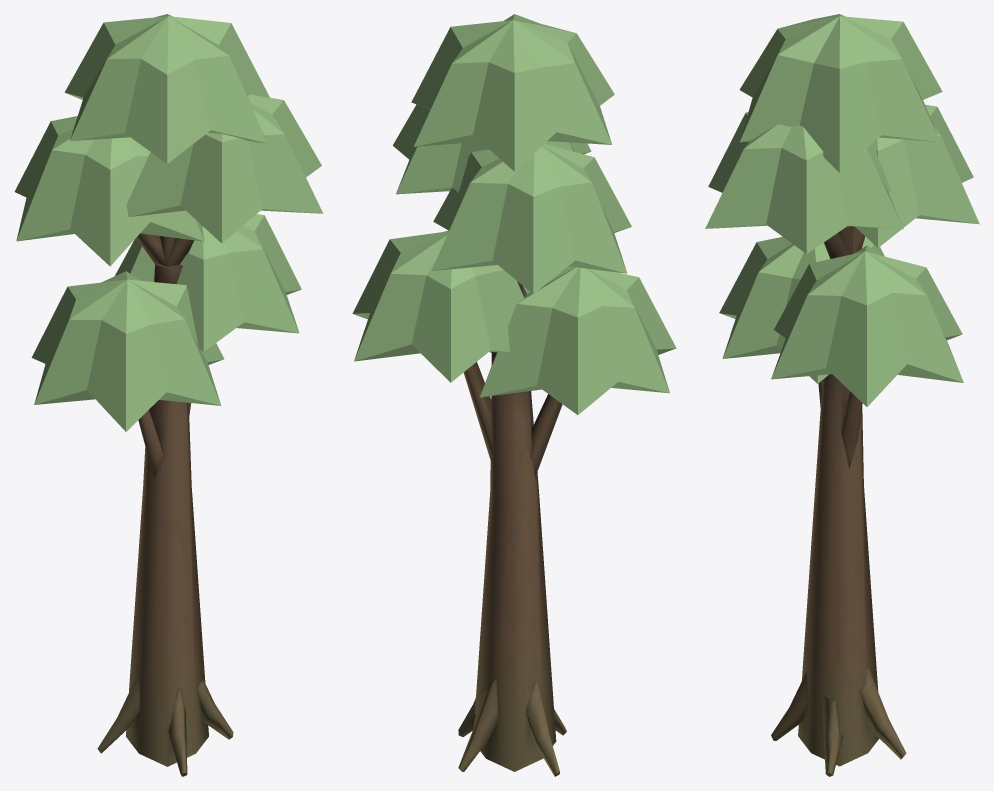
The model's file is arv_carvalho_6.glb.
3 renders of one model, left to right at view 1: azimuth 30°, elevation 25°; view 2: azimuth 150°, elevation 25°; view 3: azimuth 270°, elevation 25°, orthographic.
Parts seen in each view (by area): view 1: arv_carvalho_6_corpo; view 2: arv_carvalho_6_corpo; view 3: arv_carvalho_6_corpo.
Part boxes in pixels (x1,y1,x2,y2): arv_carvalho_6_corpo: (14, 14, 323, 776); arv_carvalho_6_corpo: (352, 14, 676, 776); arv_carvalho_6_corpo: (705, 14, 979, 776).
Bounding box in the file's own units: 0.9474 × 2.27 × 0.7704.
2 materials, 1 textured.
